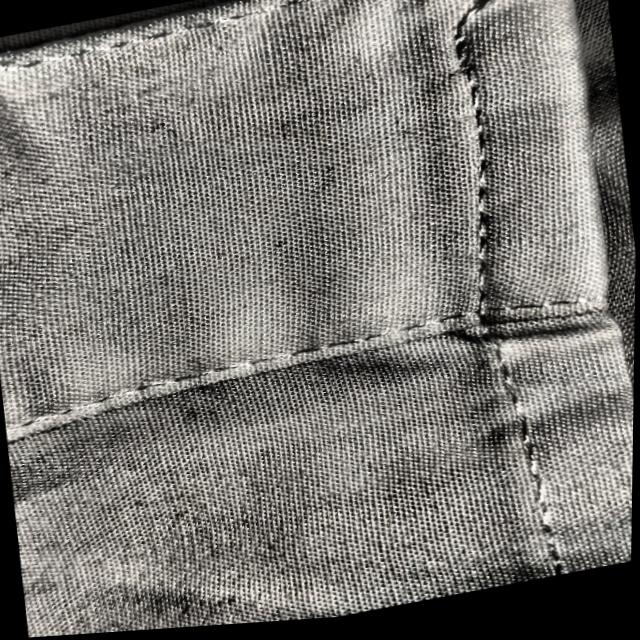Stitch: (417, 0, 614, 62)
